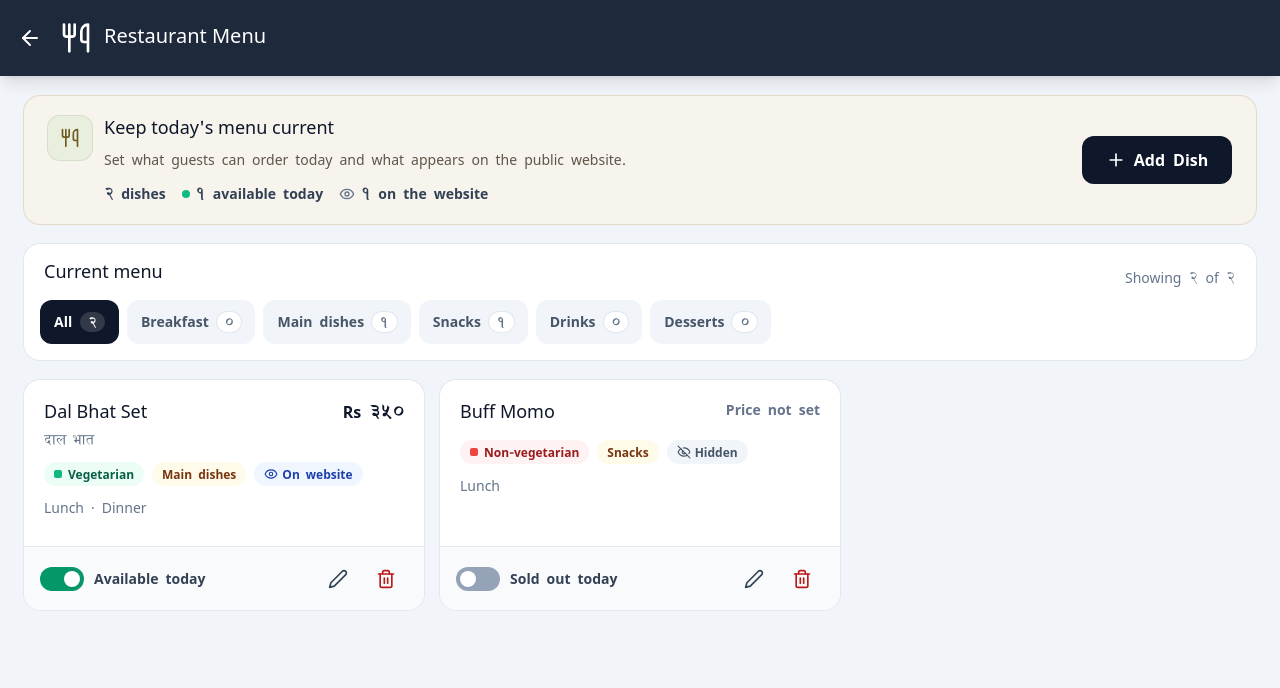
Test: RestaurantMenuPage › shows the server message when saving fails
This screenshot has width=1280, height=688.
Click the button "Add Dish" at (1157, 160), box [1082,136,1232,184]
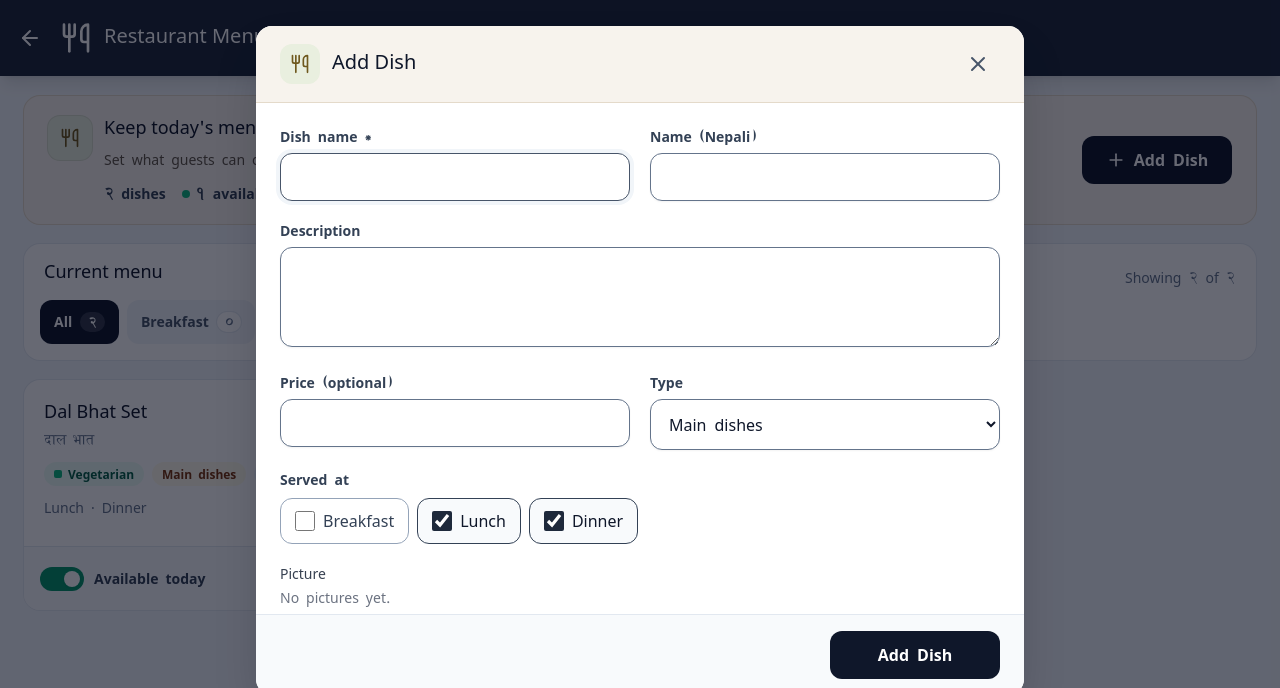
Type "X" into the field labelled "Dish name *" at (455, 176), box [280,152,630,200]
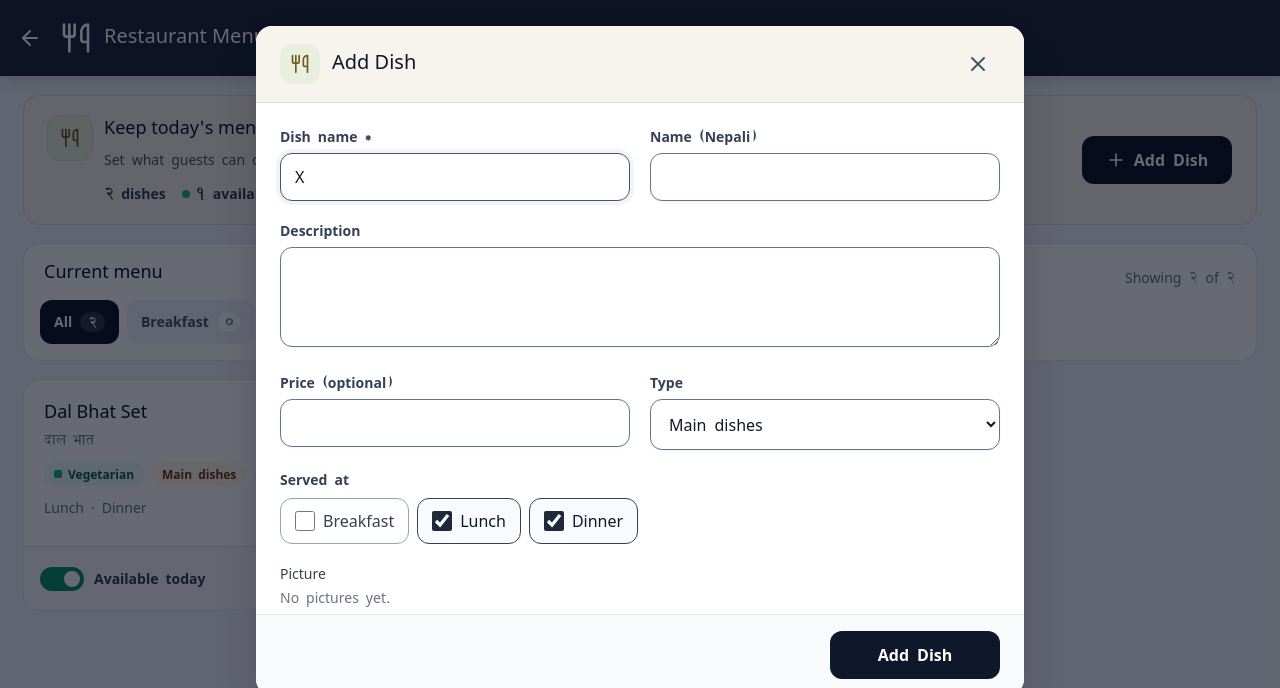
Click the button "Add Dish" at (915, 654), box [830,630,1000,678]
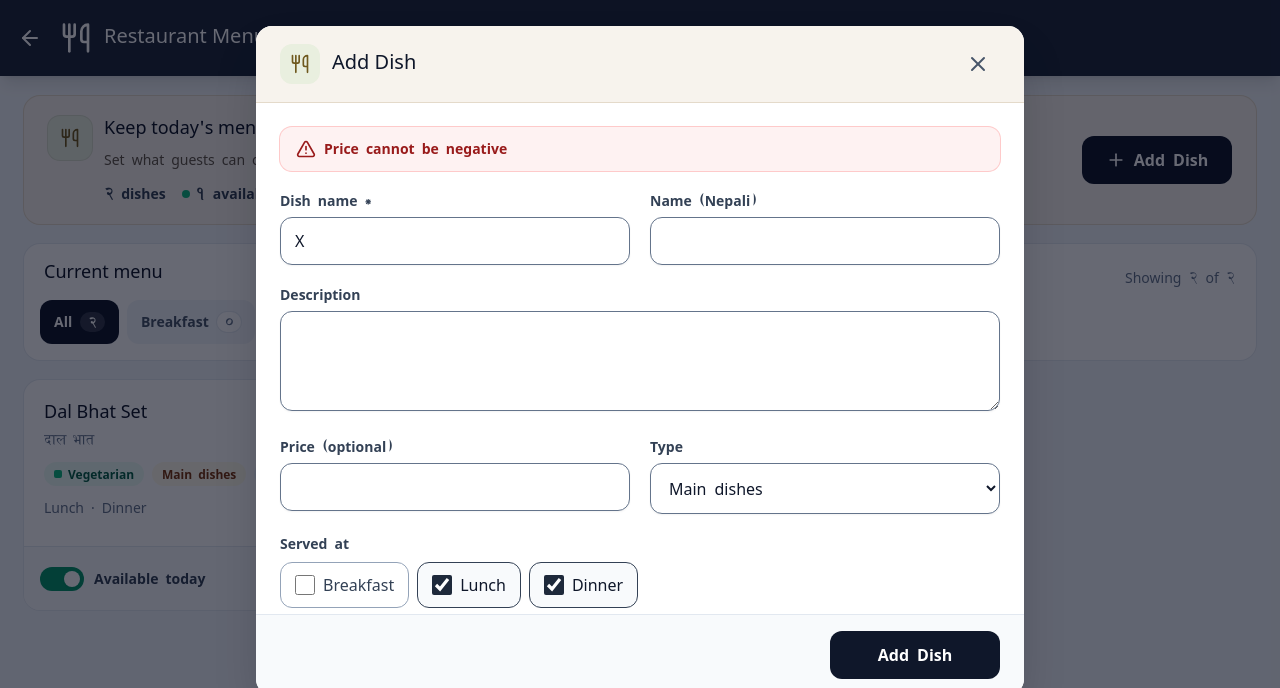
Result: the text "Price cannot be negative" is shown at [280,126,1000,170]
